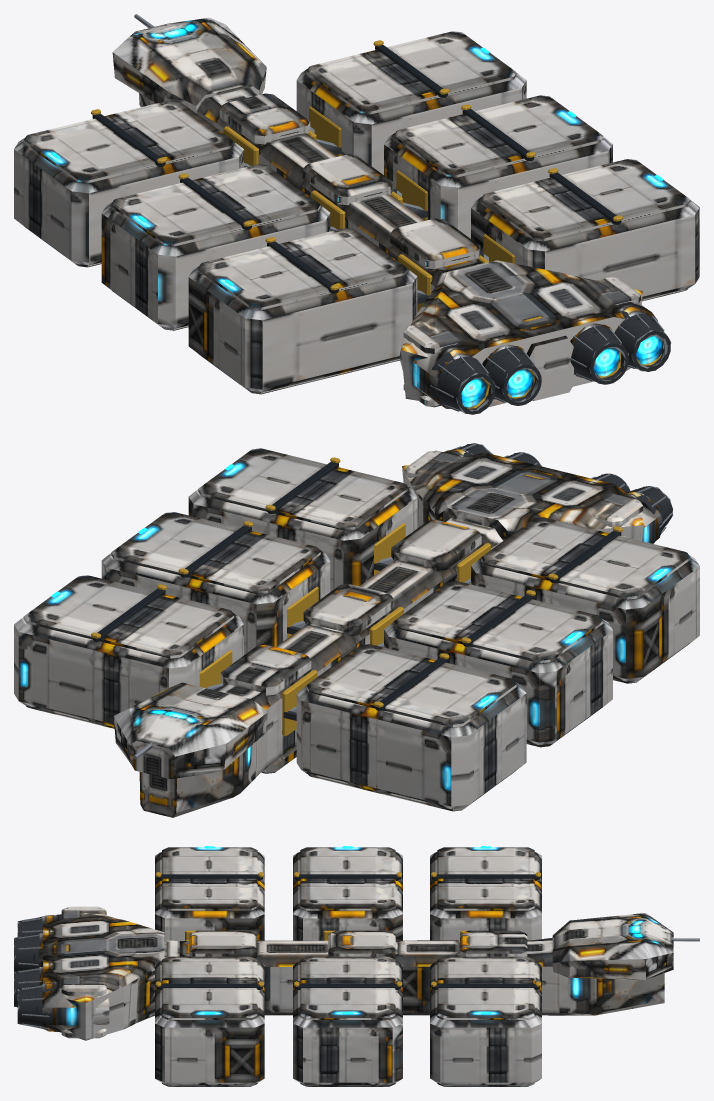
Rendered from medium-freighter-lod2.glb.
3 views of the same model, one above another, from view 1: azimuth 30°, elevation 25°; view 2: azimuth 150°, elevation 25°; view 3: azimuth 270°, elevation 25° (orthographic). The views are drawn at different scales.
Parts seen in each view (by area): view 1: Static / Reference artwork | titanium, brass, panels and can, Static / Structural frames | gunmetal, Static / Warm brass collars, Static / Structural rails | dark alloy, Static / Machined titanium edges, Static / Ventral armor | dedicated bottom-view reference; view 2: Static / Reference artwork | titanium, brass, panels and can, Static / Warm brass collars, Static / Structural rails | dark alloy, Static / Ventral armor | dedicated bottom-view reference, Static / Structural frames | gunmetal, Static / Machined titanium edges; view 3: Static / Reference artwork | titanium, brass, panels and can, Static / Structural rails | dark alloy, Static / Structural frames | gunmetal, Static / Ventral armor | dedicated bottom-view reference, Static / Machined titanium edges, Static / Warm brass collars.
Part boxes in pixels (x1,y1,x2,y2): Static / Reference artwork | titanium, brass, panels and can: [14, 17, 699, 407]; Static / Structural frames | gunmetal: [328, 146, 670, 414]; Static / Warm brass collars: [91, 40, 663, 408]; Static / Structural rails | dark alloy: [92, 45, 654, 408]; Static / Machined titanium edges: [134, 14, 671, 413]; Static / Ventral armor | dedicated bottom-view reference: [16, 120, 694, 408]; Static / Reference artwork | titanium, brass, panels and can: [14, 448, 699, 817]; Static / Warm brass collars: [91, 457, 622, 736]; Static / Structural rails | dark alloy: [92, 449, 664, 710]; Static / Ventral armor | dedicated bottom-view reference: [19, 477, 697, 817]; Static / Structural frames | gunmetal: [283, 443, 672, 720]; Static / Machined titanium edges: [133, 443, 673, 759]; Static / Reference artwork | titanium, brass, panels and can: [38, 847, 673, 1086]; Static / Structural rails | dark alloy: [33, 874, 539, 1027]; Static / Structural frames | gunmetal: [14, 915, 53, 1029]; Static / Ventral armor | dedicated bottom-view reference: [42, 958, 673, 1086]; Static / Machined titanium edges: [14, 917, 699, 1029]; Static / Warm brass collars: [155, 872, 540, 986].
Bounding box in the file's own units: 11.47 × 2.56 × 18.88.
Materials: 7 (2 with a texture image).
